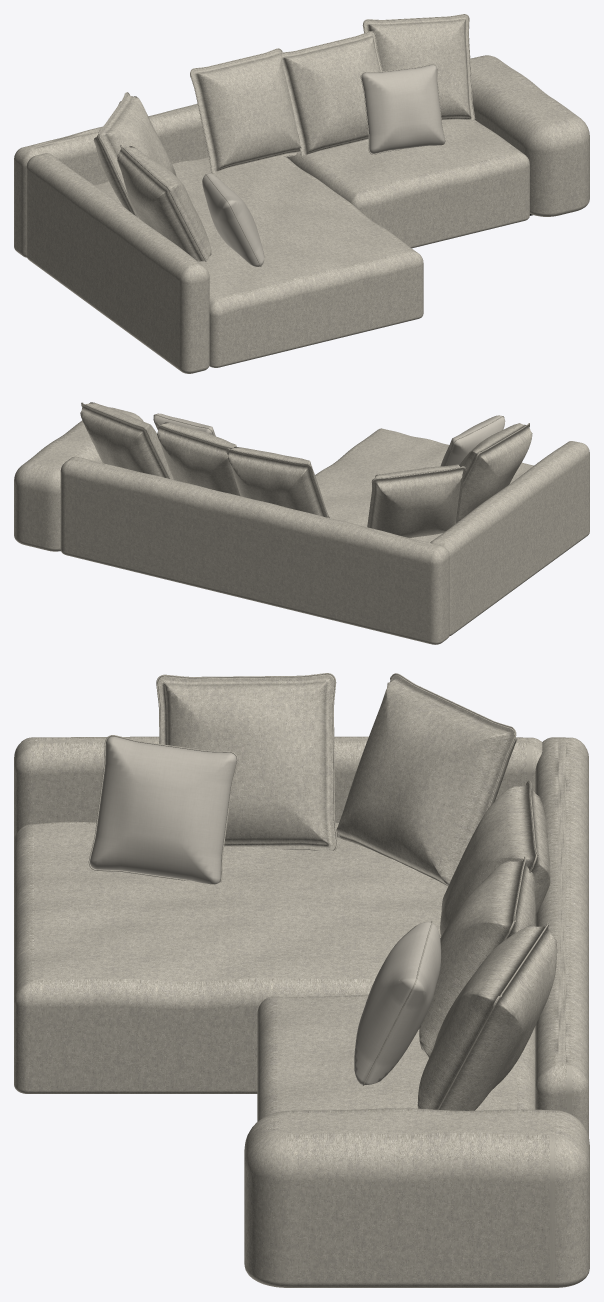
File: corner.glb
3 views of the same model, one above another, from view 1: azimuth 30°, elevation 25°; view 2: azimuth 150°, elevation 25°; view 3: azimuth 270°, elevation 25° (orthographic). The views are drawn at different scales.
Visible parts, largest first — view 1: fabric, pillows (×3); view 2: fabric, pillows (×3); view 3: fabric, pillows (×3).
Part boxes in pixels (x1,y1,x2,y2): fabric: (14, 55, 589, 373); pillows (×3): (93, 14, 475, 266); fabric: (14, 407, 589, 644); pillows (×3): (80, 402, 532, 537); fabric: (14, 736, 589, 1287); pillows (×3): (88, 673, 557, 1110).
Bounding box in the file's own units: 3.2 × 1 × 2.
4 materials, 4 textured.
